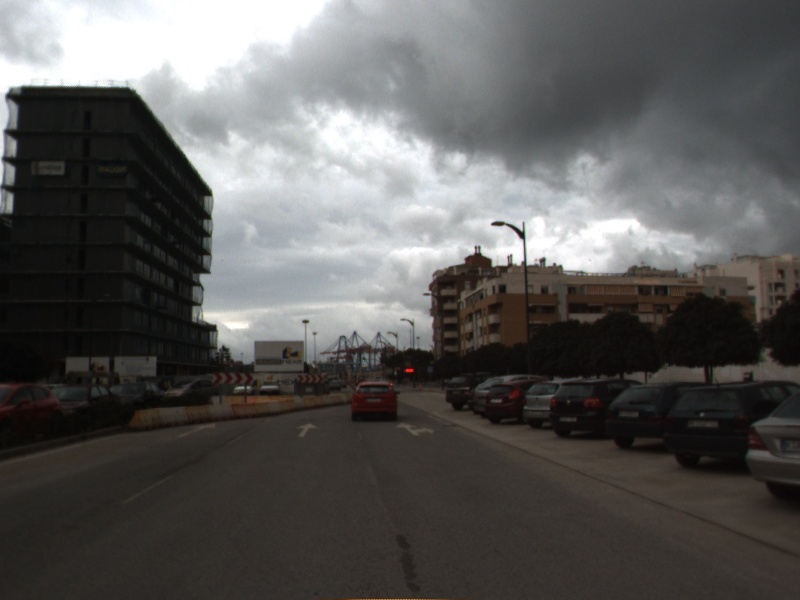STRAIGHT: (174, 421, 217, 439), (295, 421, 320, 439)
STRAIGHT_RIGHT: (394, 420, 436, 438)
